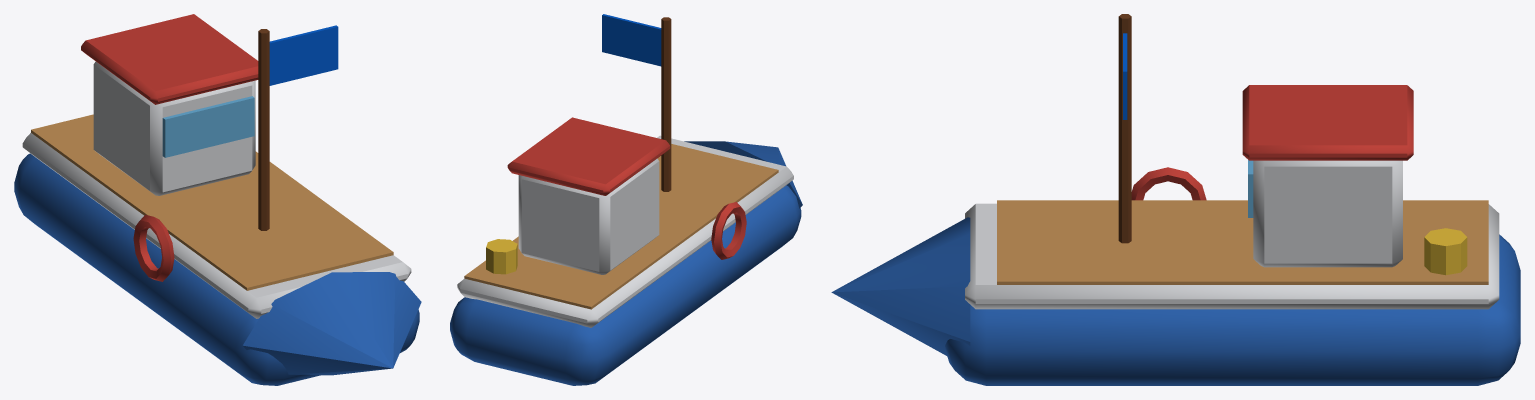
Rendered from p_boat.glb.
3 views of the same model, side by side, from view 1: azimuth 30°, elevation 25°; view 2: azimuth 150°, elevation 25°; view 3: azimuth 270°, elevation 25° (orthographic). The views are drawn at different scales.
Visible parts, largest first — view 1: body; view 2: body; view 3: body.
Part boxes in pixels (x1,y1,x2,y2): body: (14, 14, 421, 385); body: (450, 14, 802, 385); body: (831, 14, 1520, 385).
Size of the model in its own units: 2.29 by 3.45 by 6.45.
